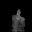person: (11, 8, 25, 30)
